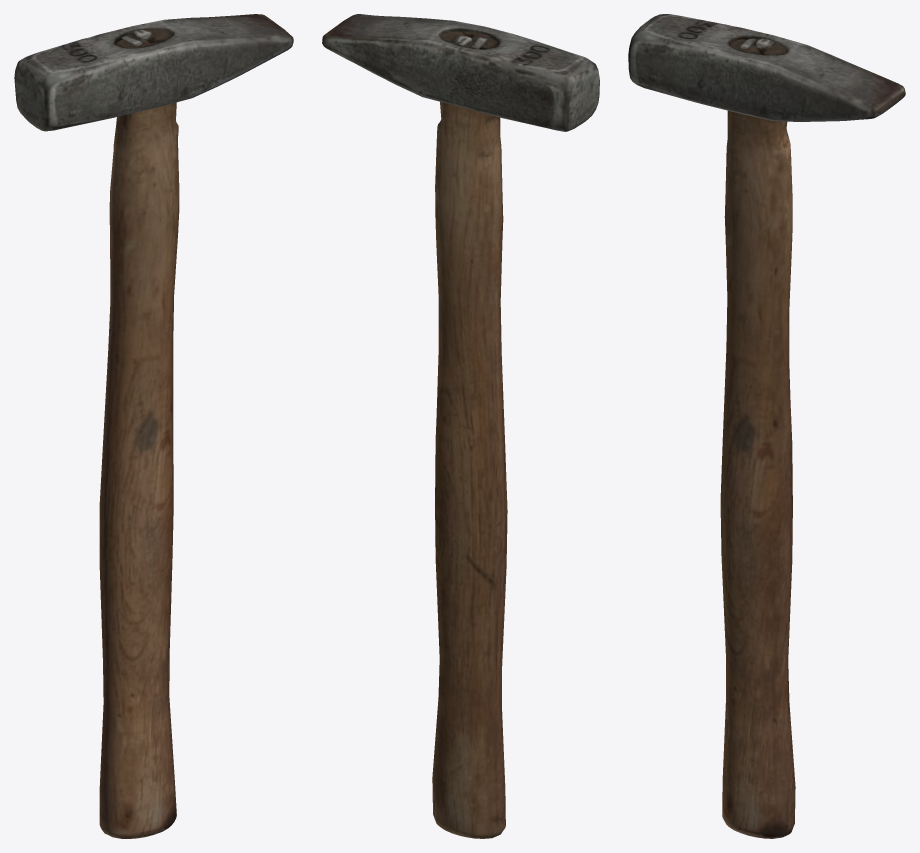
File: hammer.glb
3 renders of one model, left to right at view 1: azimuth 30°, elevation 25°; view 2: azimuth 150°, elevation 25°; view 3: azimuth 330°, elevation 25°, orthographic.
Visible parts, largest first — view 1: cross_pein_hammer; view 2: cross_pein_hammer; view 3: cross_pein_hammer.
Boxes of the visible parts, x1,y1,x2,y2 form: cross_pein_hammer: (14, 14, 293, 838); cross_pein_hammer: (322, 14, 599, 838); cross_pein_hammer: (628, 14, 905, 838).
Bounding box in the file's own units: 0.0991 × 0.3002 × 0.0243.
1 material, 1 textured.
